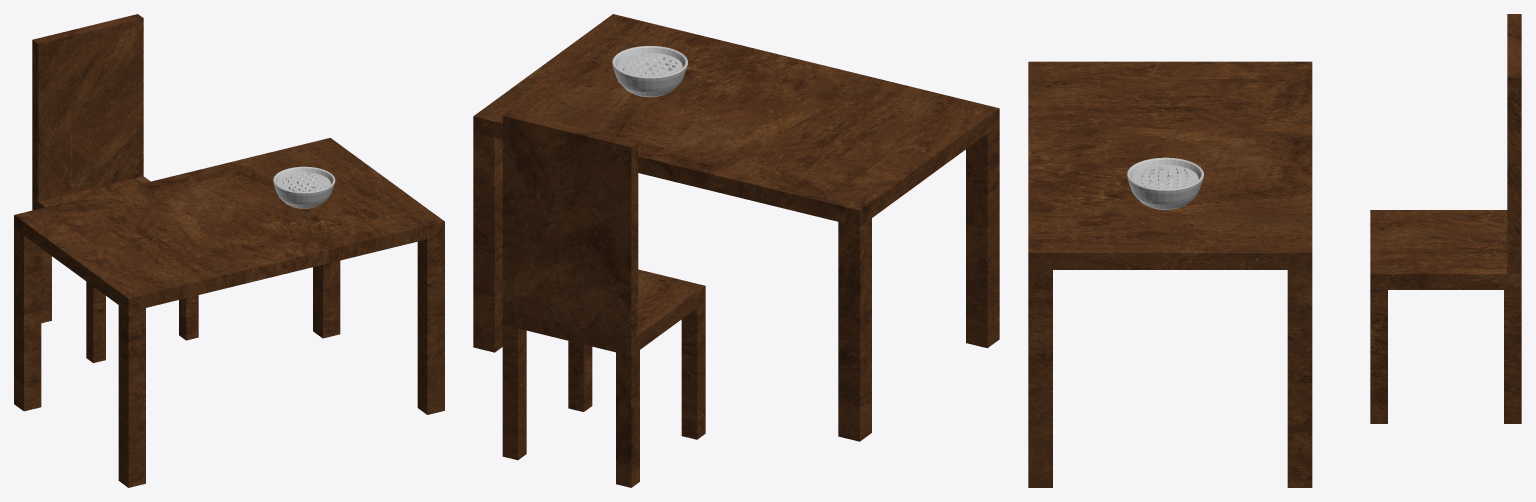
Rendered from MenuTable.fbx.
The picture shows the model from 3 angles, left to right: view 1: azimuth 30°, elevation 25°; view 2: azimuth 150°, elevation 25°; view 3: azimuth 270°, elevation 25°; orthographic projection. The views are drawn at different scales.
Visible parts, largest first — view 1: tABLE, Bowl; view 2: tABLE, Bowl; view 3: tABLE, Bowl.
Part boxes in pixels (x1,y1,x2,y2): tABLE: [14, 14, 444, 487]; Bowl: [273, 166, 335, 208]; tABLE: [473, 14, 999, 487]; Bowl: [612, 46, 687, 97]; tABLE: [1028, 14, 1521, 487]; Bowl: [1126, 157, 1203, 209].
Bounding box in the file's own units: 114 × 96.12 × 124.
